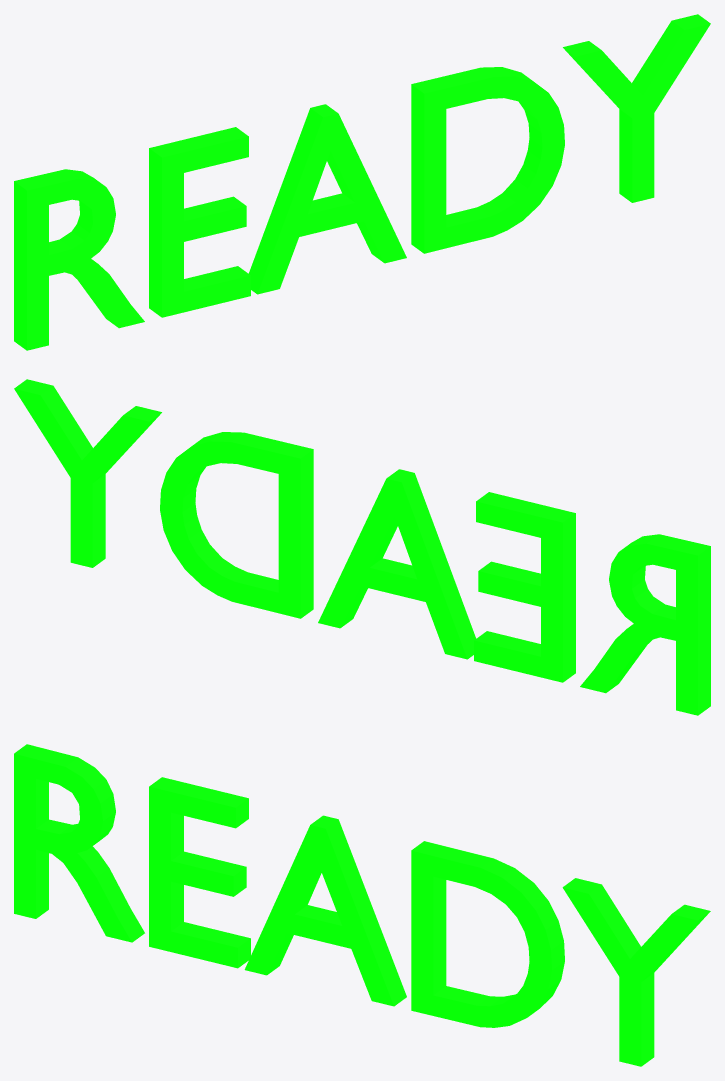
The model's file is text-ready.glb.
3 renders of one model, top to bottom at view 1: azimuth 30°, elevation 25°; view 2: azimuth 150°, elevation 25°; view 3: azimuth 330°, elevation 25°, orthographic.
Visible parts, largest first — view 1: Text.001; view 2: Text.001; view 3: Text.001.
Boxes of the visible parts, bbox=[...] form: Text.001: bbox=[14, 14, 710, 350]; Text.001: bbox=[14, 379, 710, 715]; Text.001: bbox=[14, 744, 710, 1066].
Size of what is drawn, in the model's own units: 3.05 by 0.686 by 0.1.
